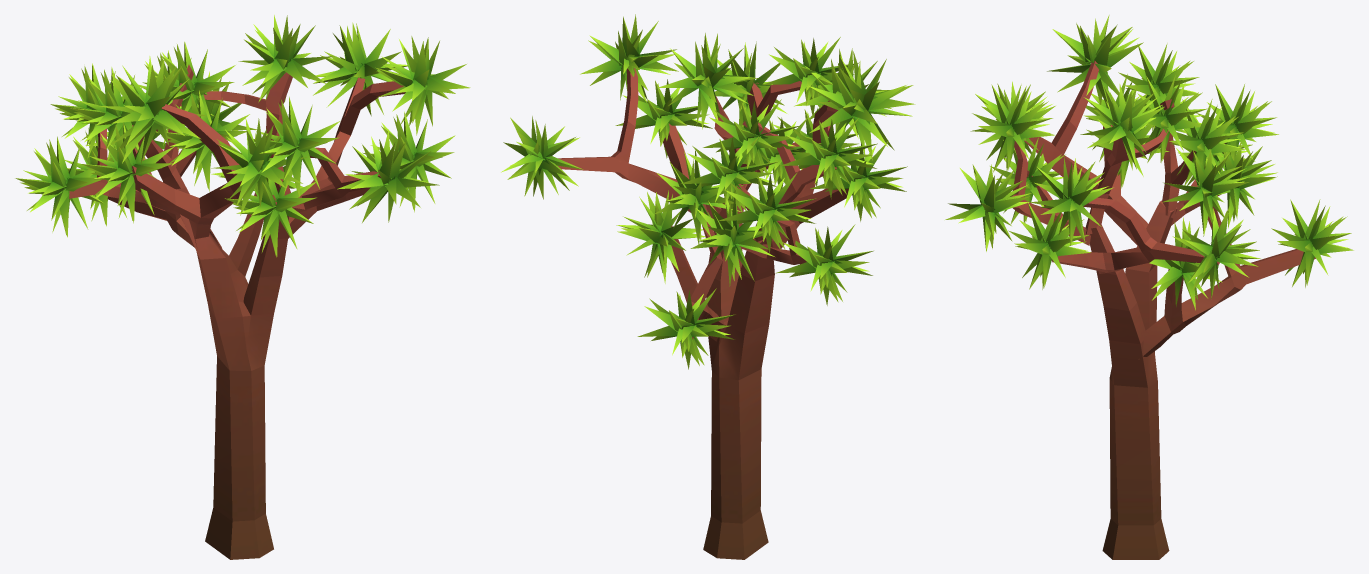
The picture shows the model from 3 angles, left to right: view 1: azimuth 30°, elevation 25°; view 2: azimuth 150°, elevation 25°; view 3: azimuth 270°, elevation 25°; orthographic projection. The views are drawn at different scales.
Parts seen in each view (by area): view 1: JoshuaTree1; view 2: JoshuaTree1; view 3: JoshuaTree1.
Boxes of the visible parts, bbox=[...] form: JoshuaTree1: bbox=[15, 15, 470, 559]; JoshuaTree1: bbox=[501, 14, 915, 559]; JoshuaTree1: bbox=[945, 15, 1353, 559].
Bounding box in the file's own units: 4.7 × 6.07 × 4.68.
Materials: 1 (1 with a texture image).
